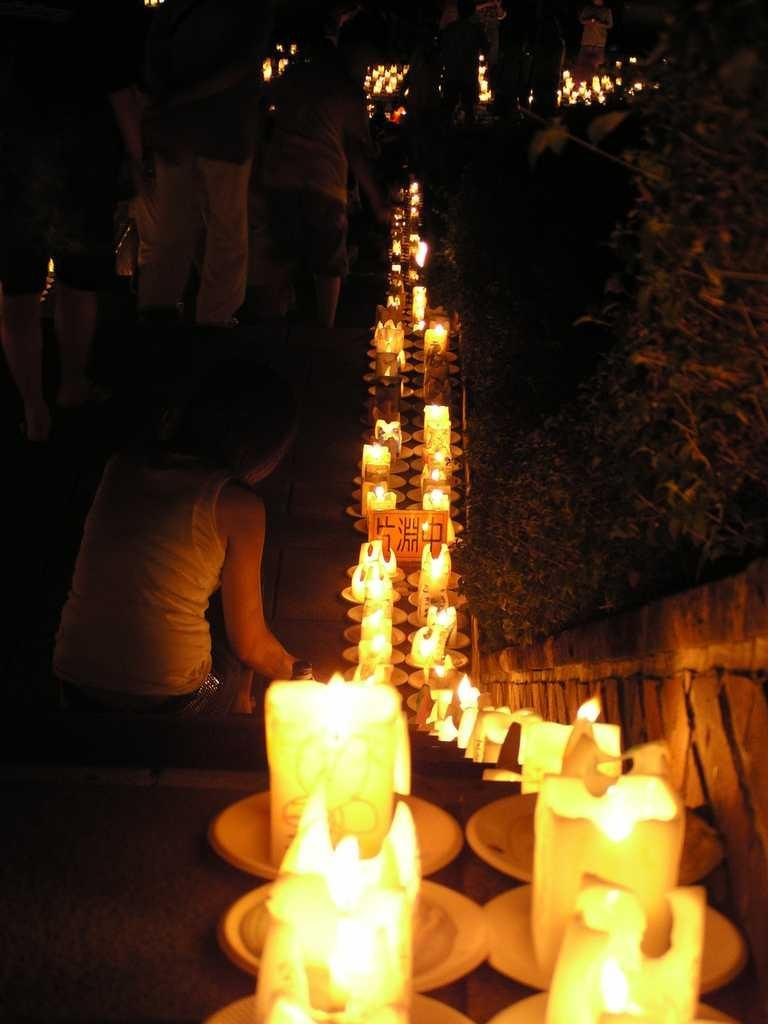fire: (275, 680, 415, 992), (582, 782, 660, 848), (582, 948, 658, 1015)
